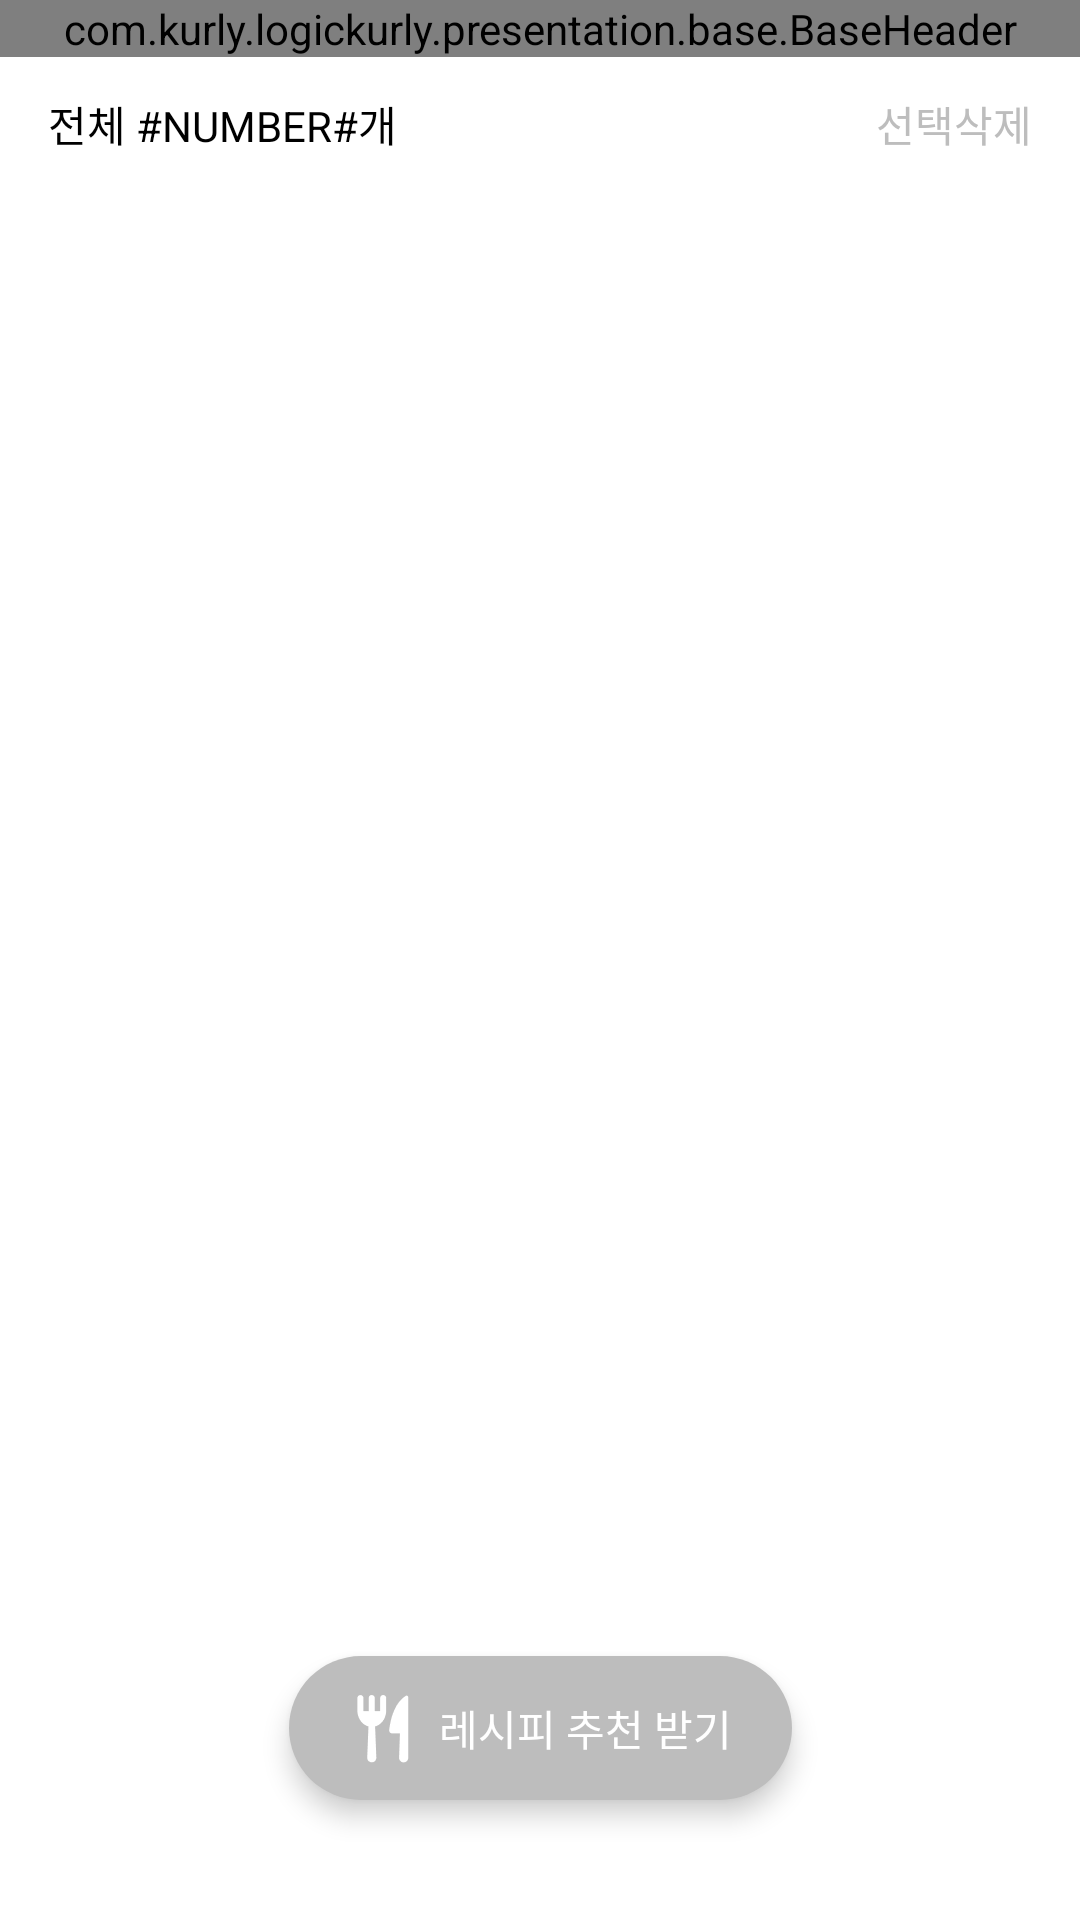

Icon click points for this 1080×1920 phone screenshot, format (x,y):
folk knife mono: (382,1729)
